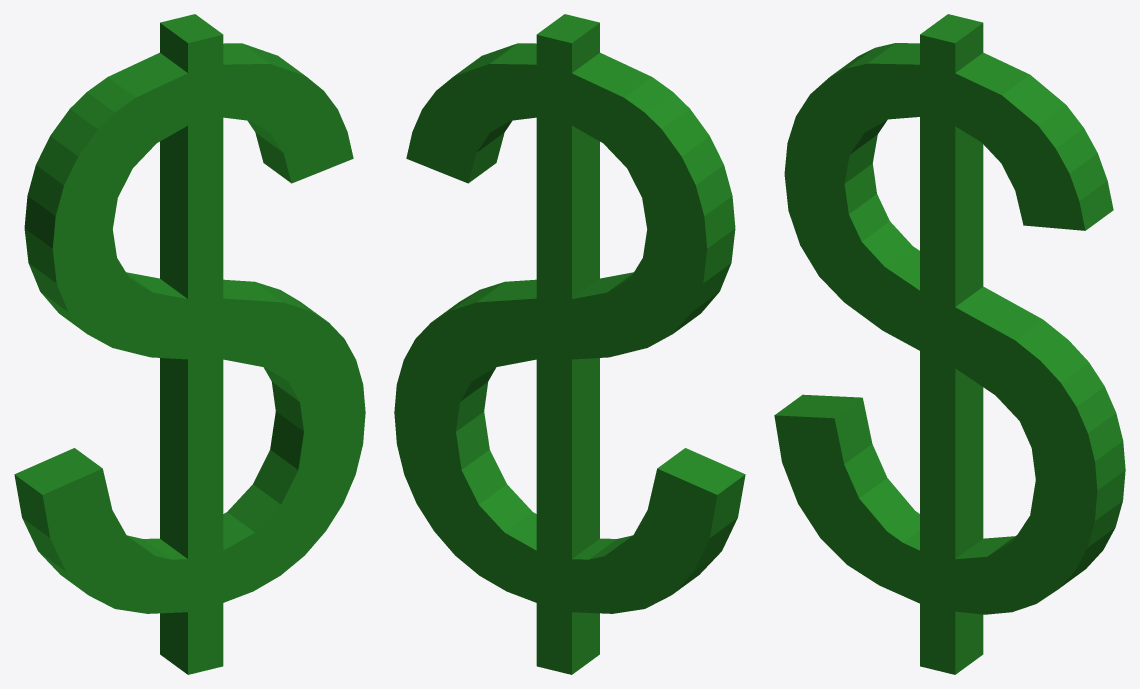
The model's file is Proto_3D_Text_Dollar_Sign_01.fbx.
The picture shows the model from 3 angles, left to right: view 1: azimuth 30°, elevation 25°; view 2: azimuth 150°, elevation 25°; view 3: azimuth 330°, elevation 25°; orthographic projection.
Parts seen in each view (by area): view 1: Proto_3D_Text_Dollar_Sign_01; view 2: Proto_3D_Text_Dollar_Sign_01; view 3: Proto_3D_Text_Dollar_Sign_01.
Part boxes in pixels (<box>): Proto_3D_Text_Dollar_Sign_01: <box>14,14,365,674</box>; Proto_3D_Text_Dollar_Sign_01: <box>394,14,745,674</box>; Proto_3D_Text_Dollar_Sign_01: <box>774,14,1125,674</box>.
Size of the model in its own units: 0.1652 by 0.3087 by 0.025.
